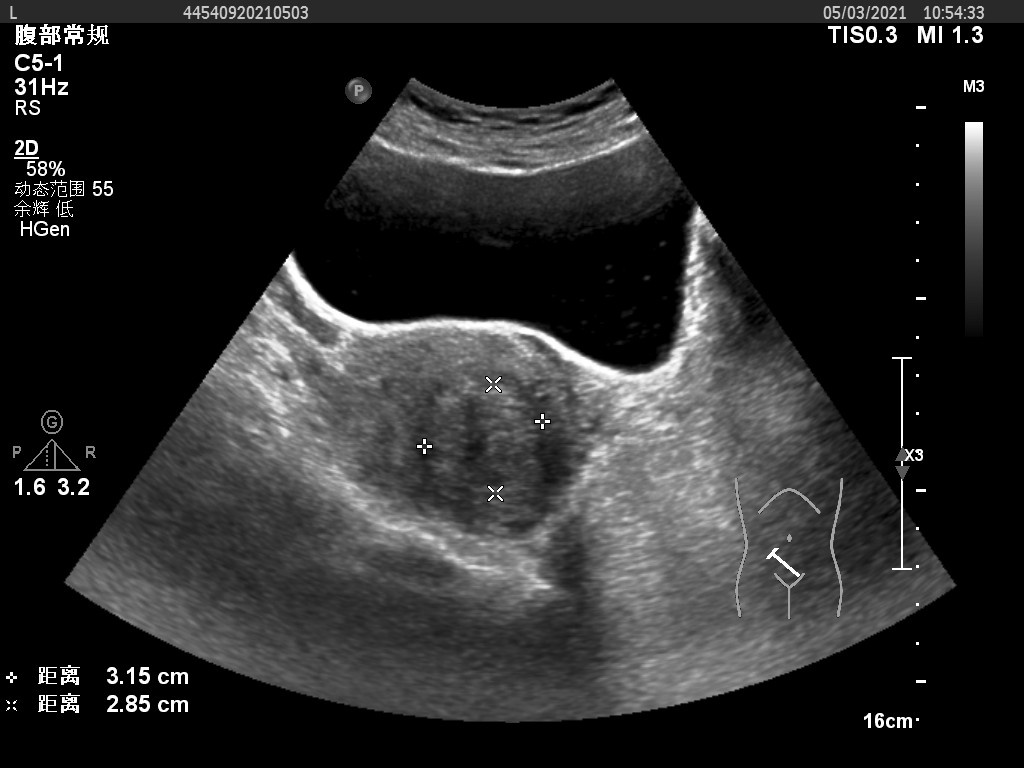肌瘤: (420, 390, 540, 493)
